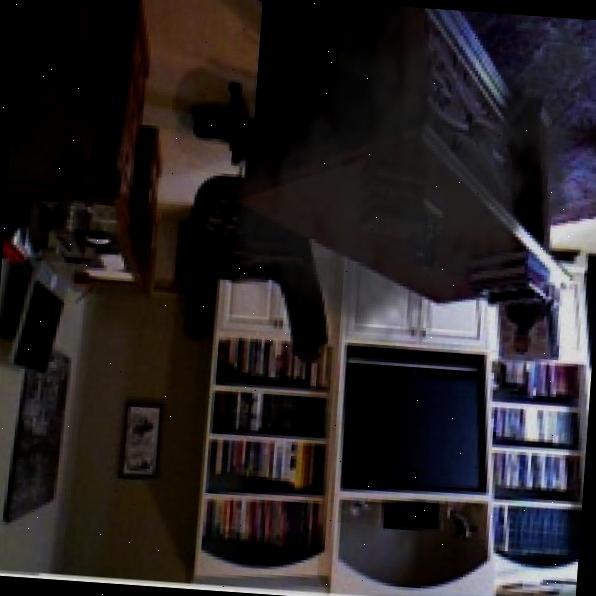smoke: (216, 0, 596, 370)
